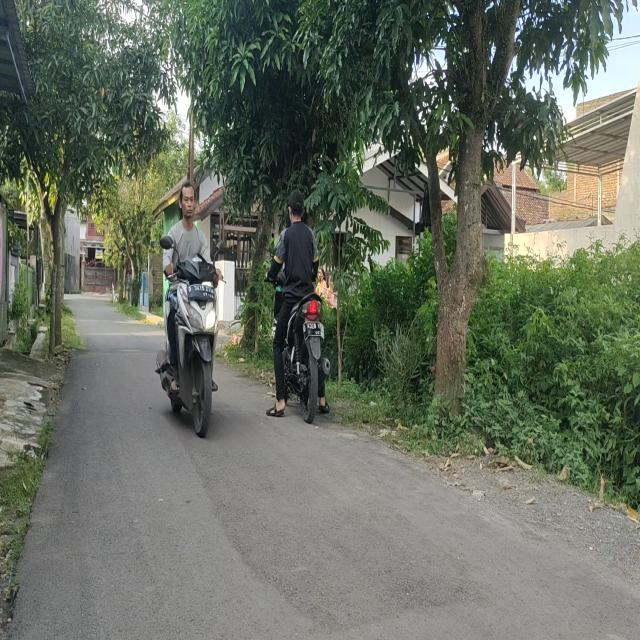no-helmet: (288, 190, 305, 220), (181, 182, 195, 218)
